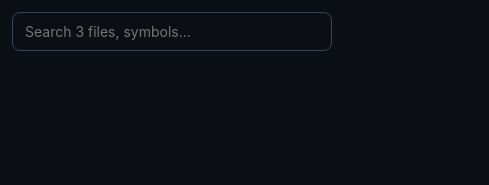
Test: files and definitions; choosing selects the file
Type "Auth" into the search field at coordinates (172, 32), box top-left (12, 12), bottom-right (332, 51)
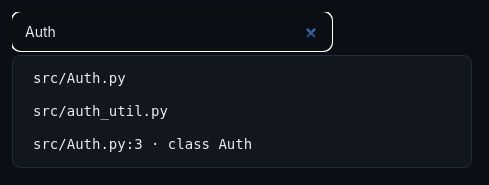
Check: the button "src/Auth.py:3 · class Auth" is shown, box top-left (19, 128), bottom-right (465, 161)
Click the button "src/auth_util.py" at coordinates (100, 111), box top-left (19, 95), bottom-right (465, 128)
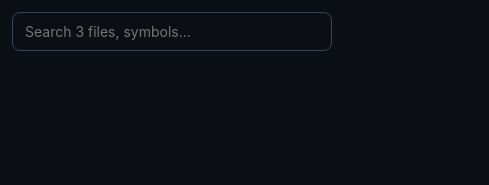
Type "Nope" into the search field at coordinates (172, 32), box top-left (12, 12), bottom-right (332, 51)
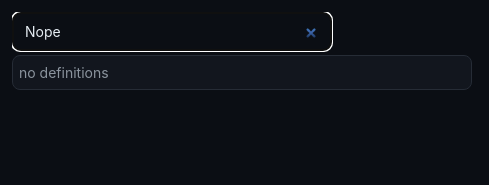
Check: the list item "no definitions" is shown, box top-left (19, 64), bottom-right (109, 81)
